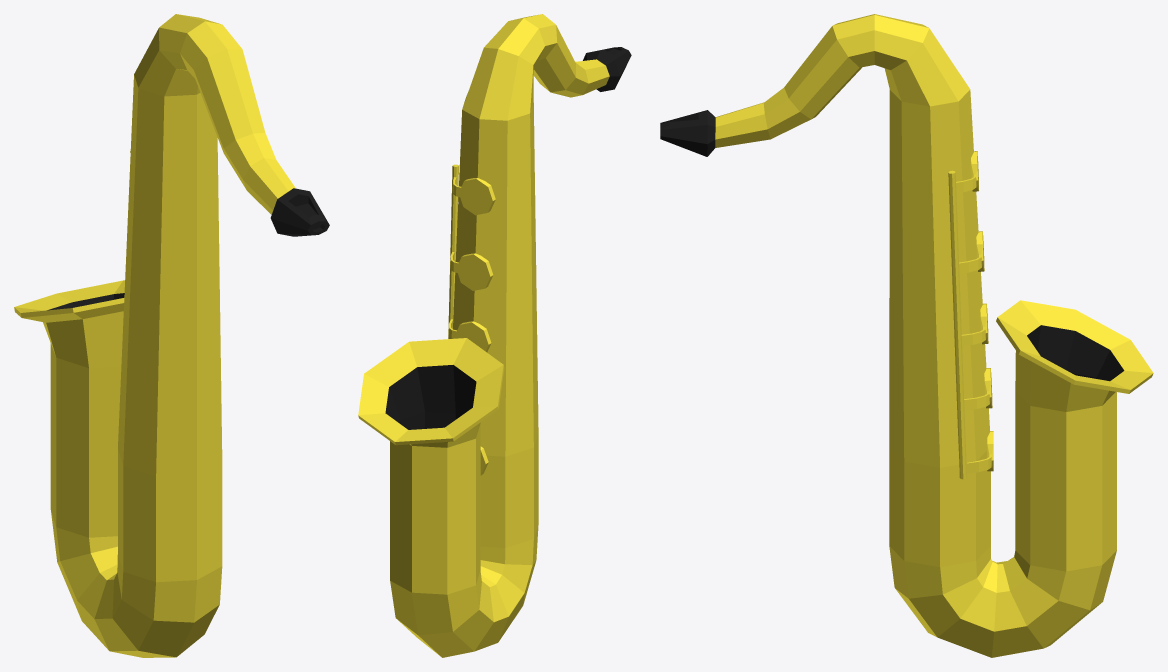
File: Saxophone_01.obj
The picture shows the model from 3 angles, left to right: view 1: azimuth 30°, elevation 25°; view 2: azimuth 150°, elevation 25°; view 3: azimuth 270°, elevation 25°; orthographic projection. The views are drawn at different scales.
Visible parts, largest first — view 1: Saxophone_Circle.003; view 2: Saxophone_Circle.003; view 3: Saxophone_Circle.003.
Boxes of the visible parts, left/top/right/bottom form: Saxophone_Circle.003: left=14, top=14, right=329, bottom=657; Saxophone_Circle.003: left=358, top=14, right=631, bottom=657; Saxophone_Circle.003: left=660, top=14, right=1153, bottom=657.
Bounding box in the file's own units: 3.8 × 16 × 11.16.
